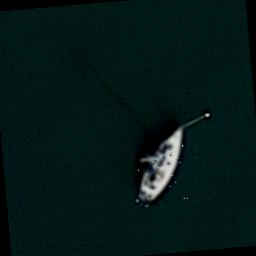boat: (132, 120, 192, 205)
